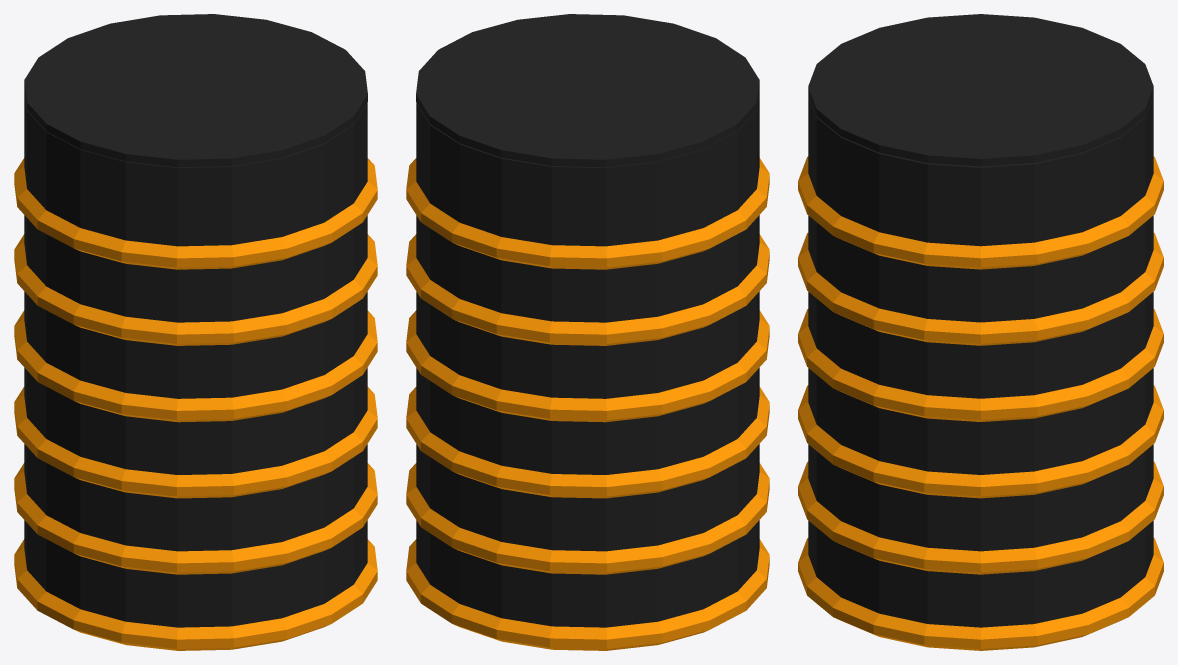
Rendered from closedbarrel.glb.
The picture shows the model from 3 angles, left to right: view 1: azimuth 30°, elevation 25°; view 2: azimuth 150°, elevation 25°; view 3: azimuth 270°, elevation 25°; orthographic projection.
Visible parts, largest first — view 1: openbarrel.001, closedbarrel; view 2: openbarrel.001, closedbarrel; view 3: openbarrel.001, closedbarrel.
Part boxes in pixels (x1,y1,x2,y2): openbarrel.001: (14,87,377,650); closedbarrel: (24,14,367,167); openbarrel.001: (406,87,769,650); closedbarrel: (416,14,759,167); openbarrel.001: (798,95,1163,650); closedbarrel: (808,14,1153,166).
Size of what is drawn, in the model's own units: 1.06 by 1.57 by 1.06.
2 materials, 2 textured.
